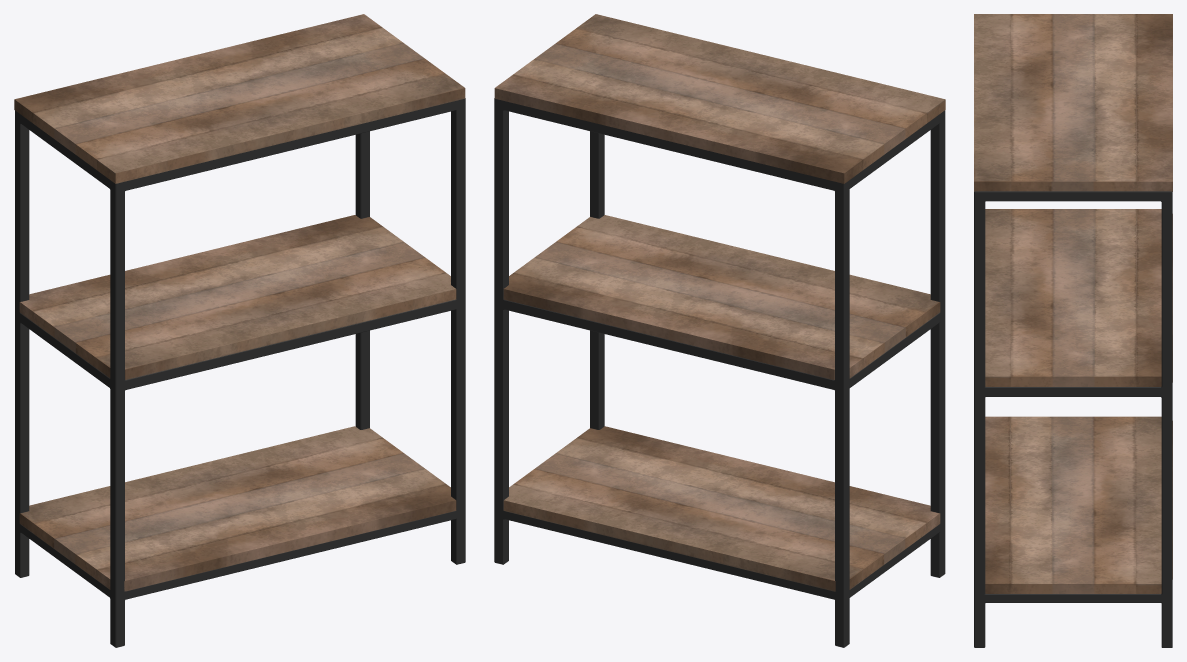
Rendered from 004_Urban_3_Tier_Bookcase.glb.
3 renders of one model, left to right at view 1: azimuth 30°, elevation 25°; view 2: azimuth 150°, elevation 25°; view 3: azimuth 270°, elevation 25°, orthographic.
Visible parts, largest first — view 1: Project_Name:Urban3TierBookcase; view 2: Project_Name:Urban3TierBookcase; view 3: Project_Name:Urban3TierBookcase.
Part boxes in pixels (x1,y1,x2,y2): Project_Name:Urban3TierBookcase: [14, 14, 465, 647]; Project_Name:Urban3TierBookcase: [494, 14, 945, 647]; Project_Name:Urban3TierBookcase: [974, 14, 1172, 647].
Bounding box in the file's own units: 0.6001 × 0.7775 × 0.3003.
1 material, 1 textured.
